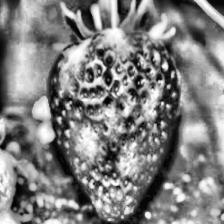Powdery Mildew Fruit: (46, 28, 182, 223)
